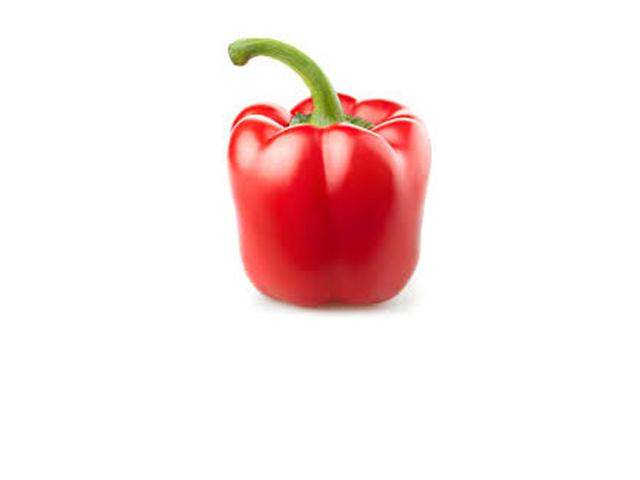bell_pepper: (219, 34, 424, 308)
